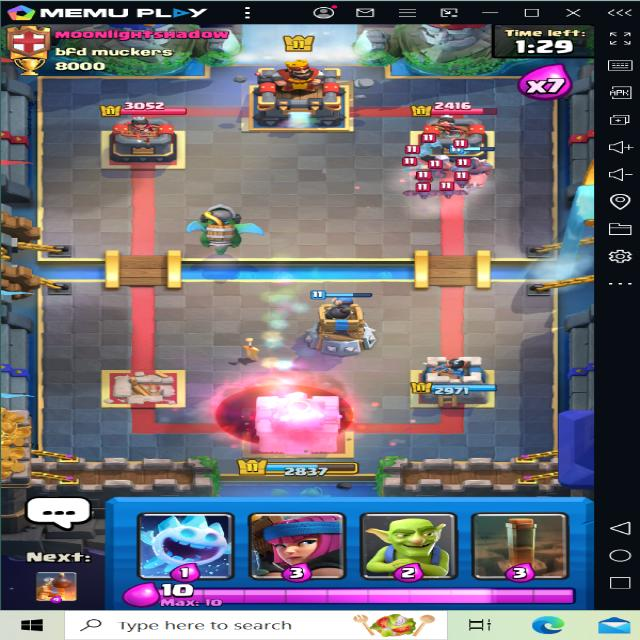bats: (410, 181, 437, 205), (433, 184, 468, 202), (454, 171, 484, 190)
void: (210, 376, 360, 446)
